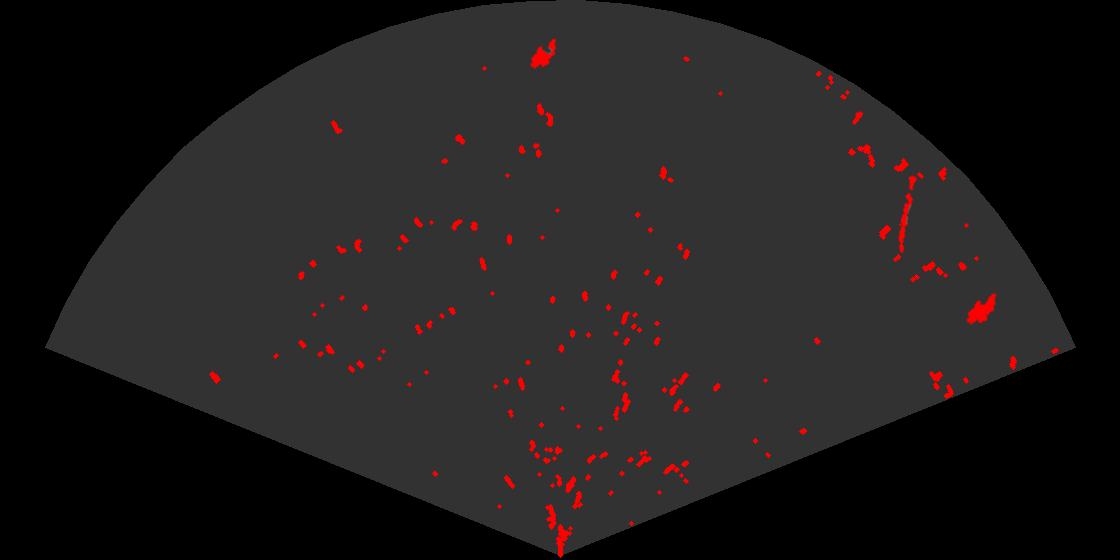AUV: (965, 291, 998, 326), (529, 37, 558, 70)
chain: (897, 171, 919, 255)
